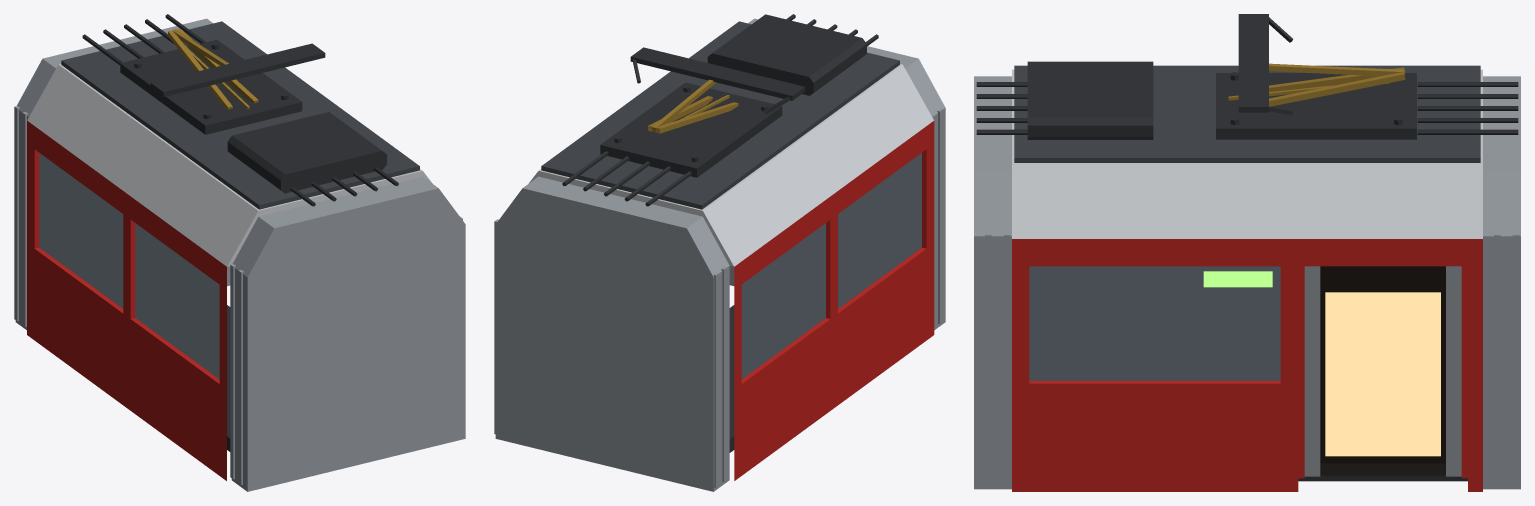
File: 14t-b-open.glb
The picture shows the model from 3 angles, left to right: view 1: azimuth 30°, elevation 25°; view 2: azimuth 150°, elevation 25°; view 3: azimuth 270°, elevation 25°; orthographic projection. The views are drawn at different scales.
Parts seen in each view (by area): view 1: 14t-b-open; view 2: 14t-b-open; view 3: 14t-b-open.
Boxes of the visible parts, left/top/right/bottom form: 14t-b-open: left=14, top=14, right=465, bottom=491; 14t-b-open: left=494, top=14, right=945, bottom=491; 14t-b-open: left=974, top=14, right=1520, bottom=491.
Size of the model in its own units: 2.46 by 3.36 by 4.35.
